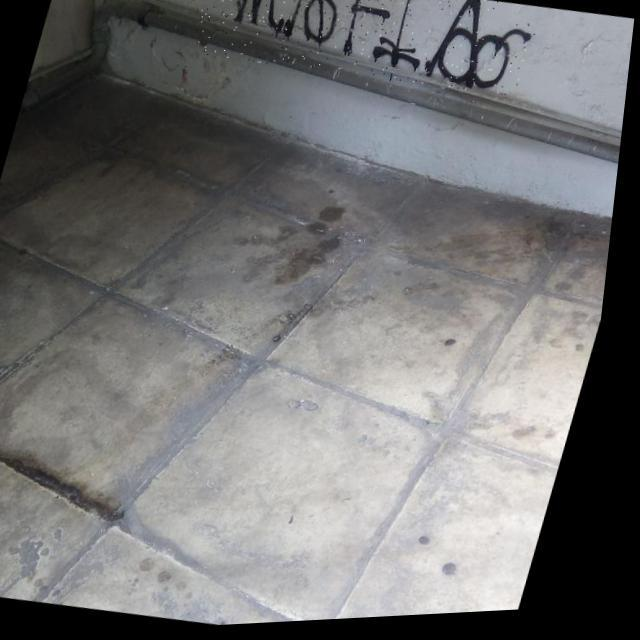-: (184, 0, 545, 115)
